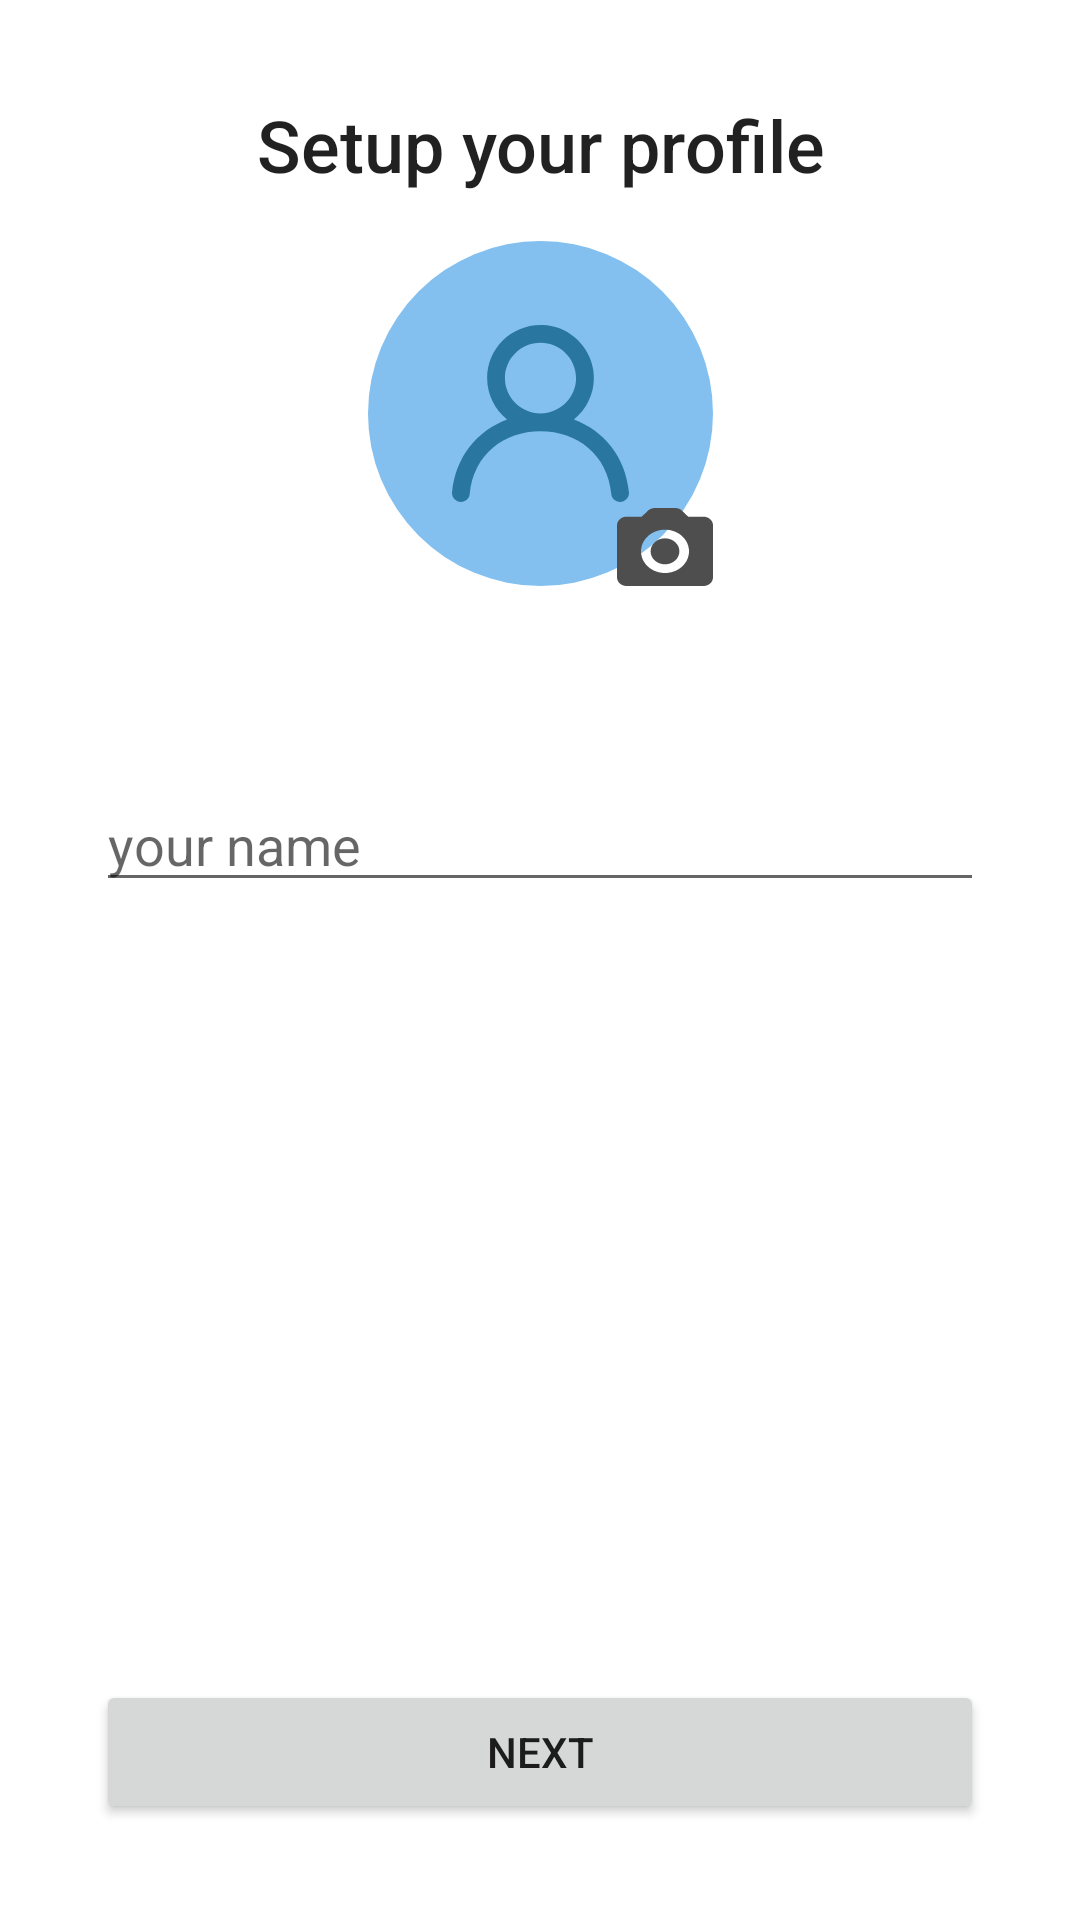

Icon bounding boxes for this 1080px×1920px phone screenshot, format detection(x1, y1, x2, y2):
camera: detection(617, 508, 713, 586)
